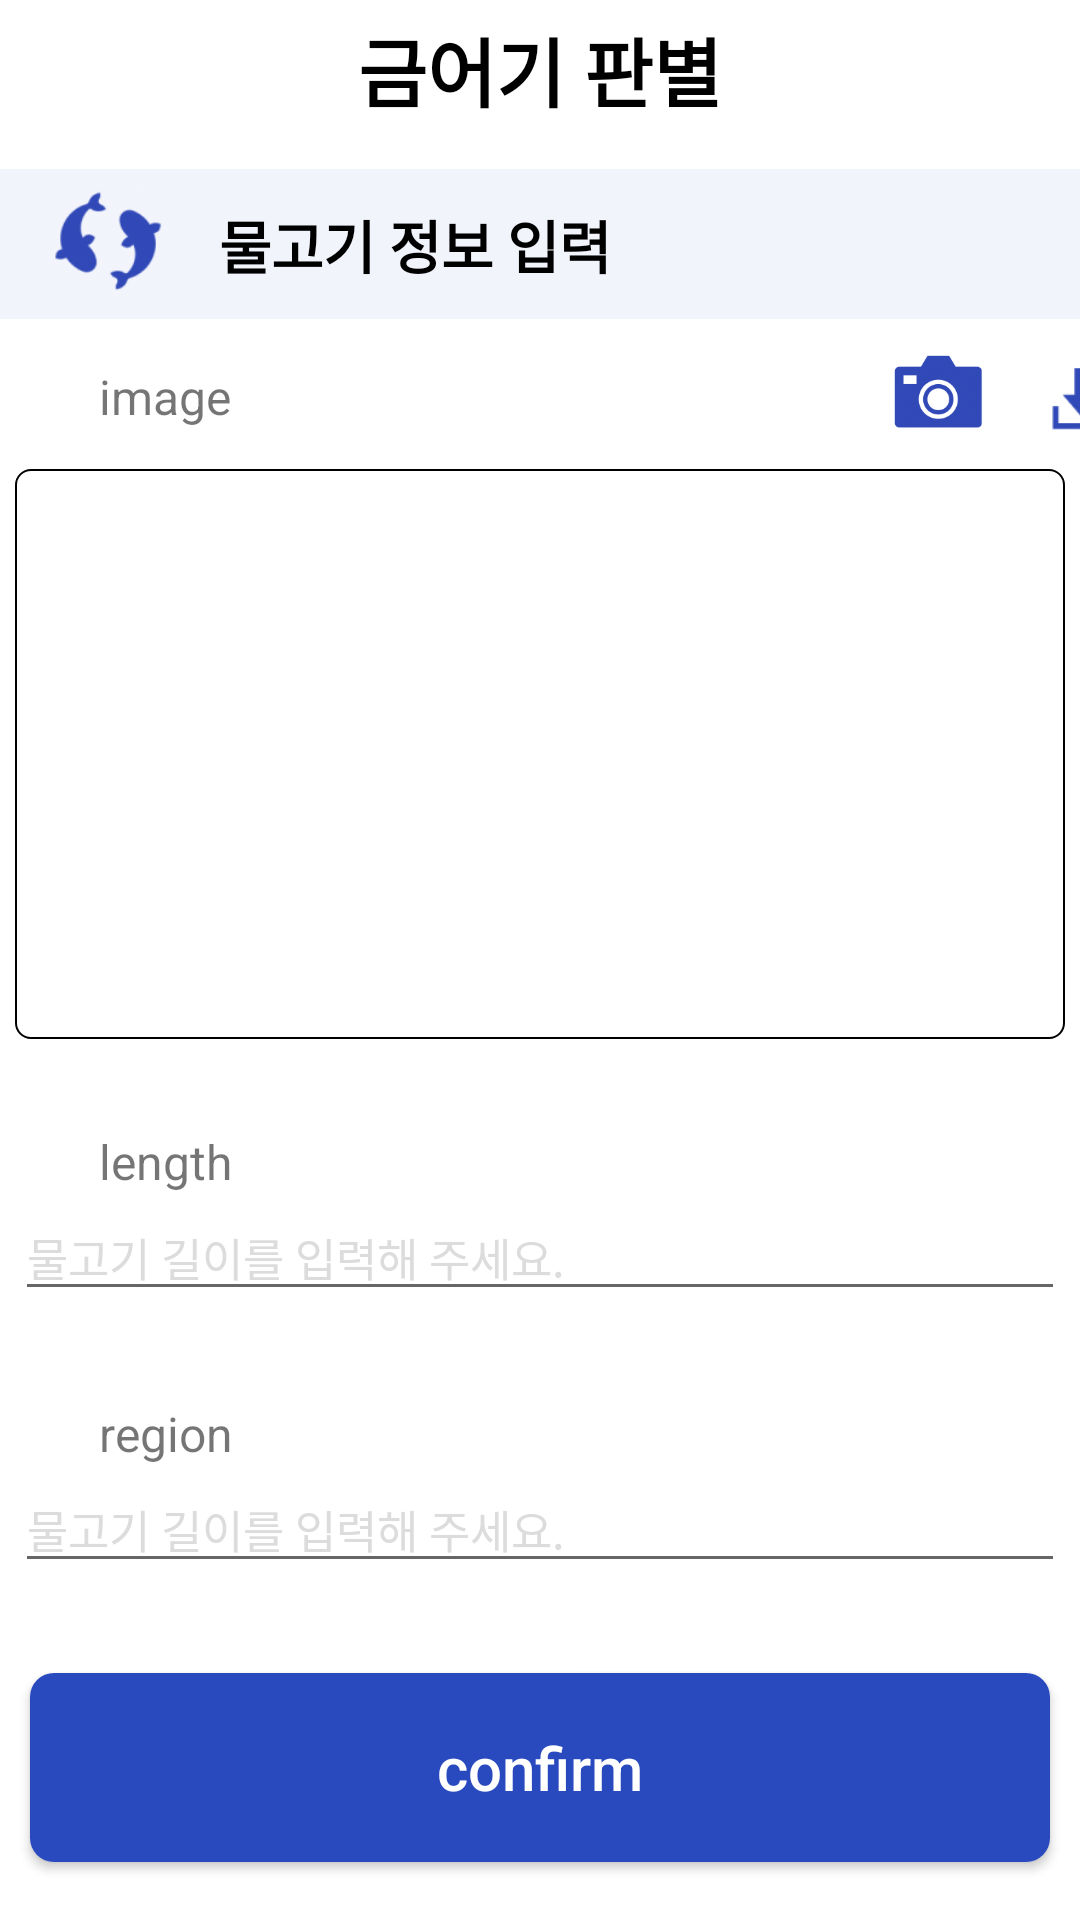

Icons on this 1080px×1920px Android screen, each with its box as (x1=x1, y1=y1, x2=x2, y2=y2):
camera: (x1=894, y1=355, x2=982, y2=428)
